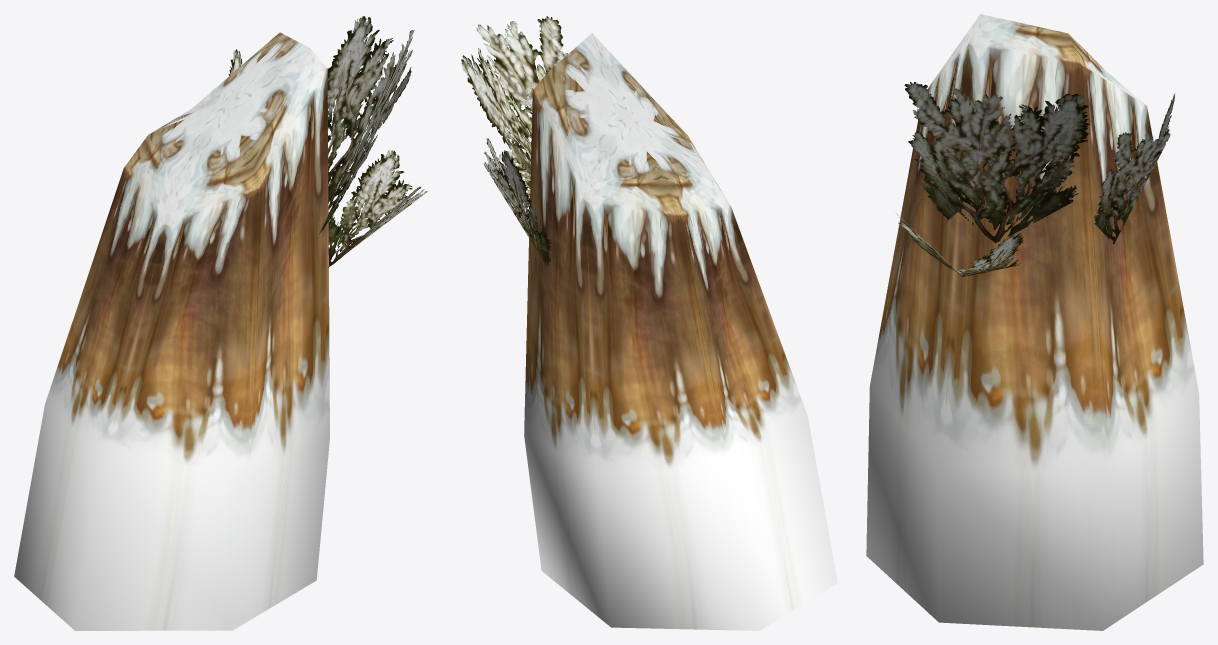
The model's file is ironstump02.obj.
The picture shows the model from 3 angles, left to right: view 1: azimuth 30°, elevation 25°; view 2: azimuth 150°, elevation 25°; view 3: azimuth 270°, elevation 25°; orthographic projection. The views are drawn at different scales.
Parts seen in each view (by area): view 1: Geoset0, Geoset1; view 2: Geoset0, Geoset1; view 3: Geoset0, Geoset1.
Boxes of the visible parts, <box> form: Geoset0: <box>14,32,329,630</box>; Geoset1: <box>228,16,427,267</box>; Geoset0: <box>524,33,837,630</box>; Geoset1: <box>461,16,567,267</box>; Geoset0: <box>866,14,1203,630</box>; Geoset1: <box>896,82,1174,276</box>.
Bounding box in the file's own units: 10.44 × 14.45 × 7.16.
Materials: 2 (2 with a texture image).
